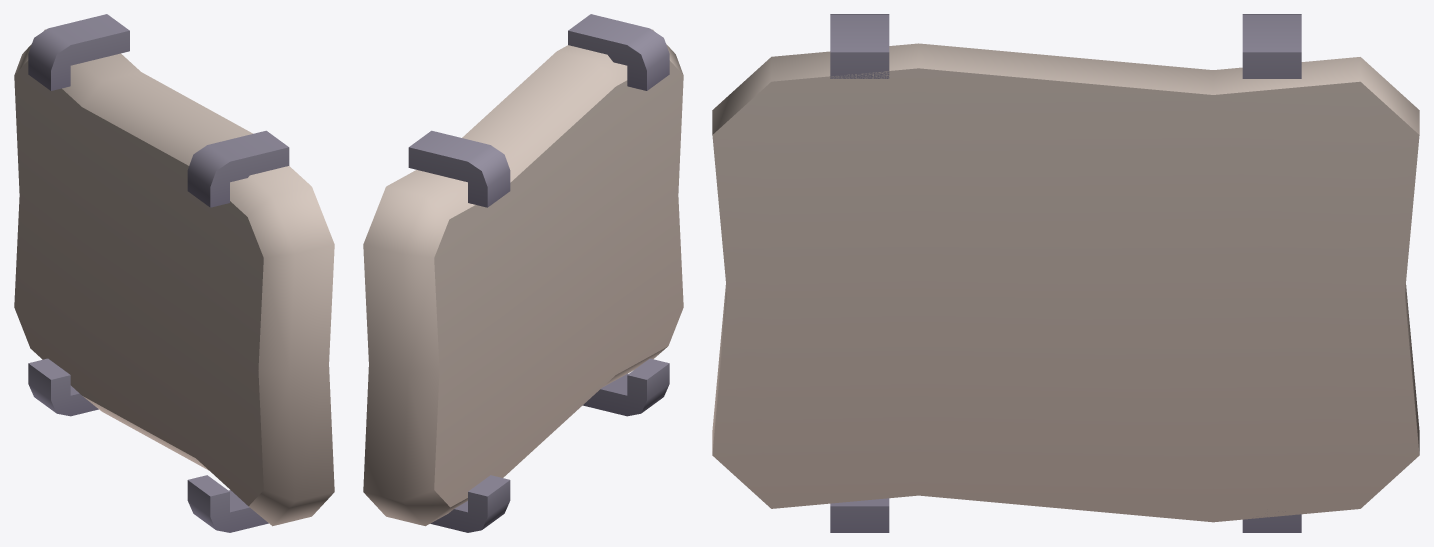
The model's file is artifact-stone (%wall).glb.
3 renders of one model, left to right at view 1: azimuth 30°, elevation 25°; view 2: azimuth 150°, elevation 25°; view 3: azimuth 270°, elevation 25°, orthographic. The views are drawn at different scales.
Visible parts, largest first — view 1: artifact-stone (%wall); view 2: artifact-stone (%wall); view 3: artifact-stone (%wall).
Boxes of the visible parts, x1,y1,x2,y2 form: artifact-stone (%wall): (14,14,334,532); artifact-stone (%wall): (363,14,683,532); artifact-stone (%wall): (712,14,1419,532).
Bounding box in the file's own units: 0.2 × 0.9 × 1.2.
